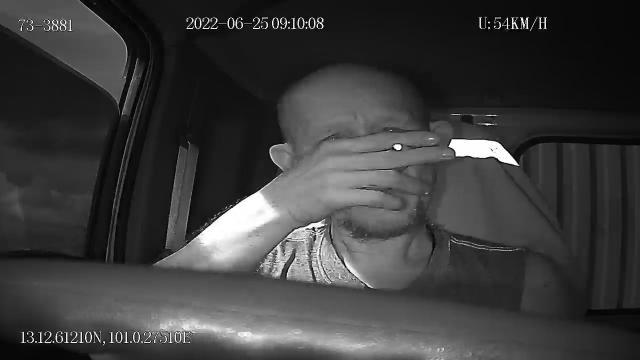Smoking: (391, 139, 414, 151)
